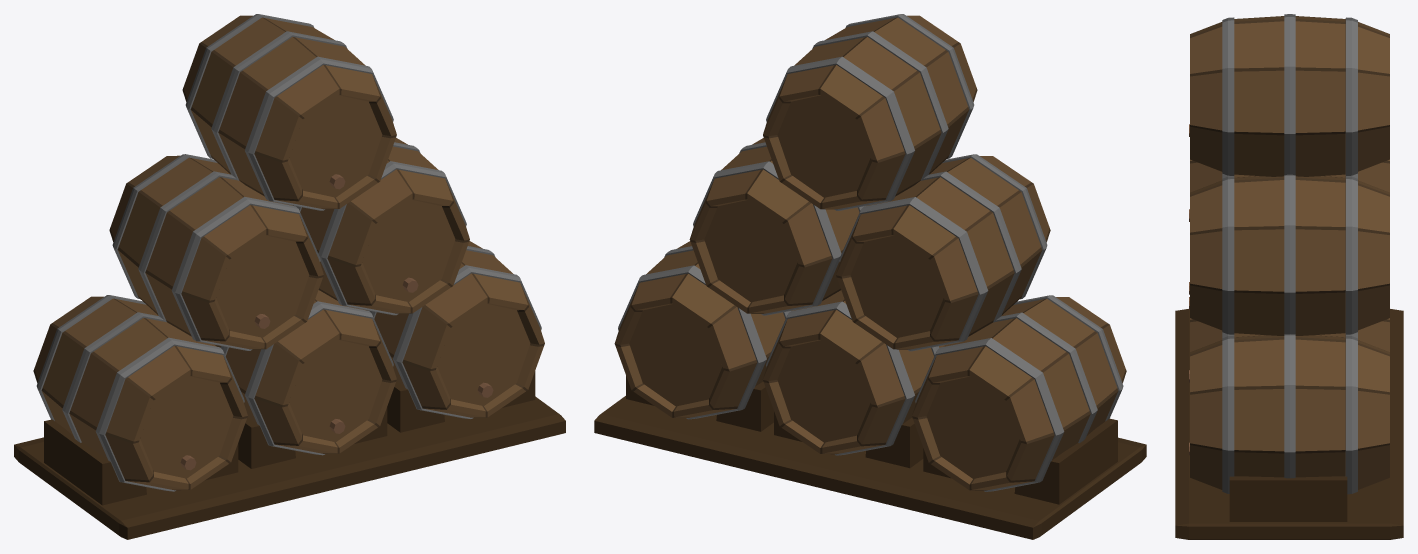
File: Cellar.fbx
3 renders of one model, left to right at view 1: azimuth 30°, elevation 25°; view 2: azimuth 150°, elevation 25°; view 3: azimuth 270°, elevation 25°, orthographic.
Parts seen in each view (by area): view 1: Bodega; view 2: Bodega; view 3: Bodega.
Boxes of the visible parts, x1,y1,x2,y2 form: Bodega: (14, 14, 565, 539); Bodega: (594, 14, 1146, 539); Bodega: (1175, 14, 1403, 539).
Size of the model in its own units: 461 by 406 by 202.
